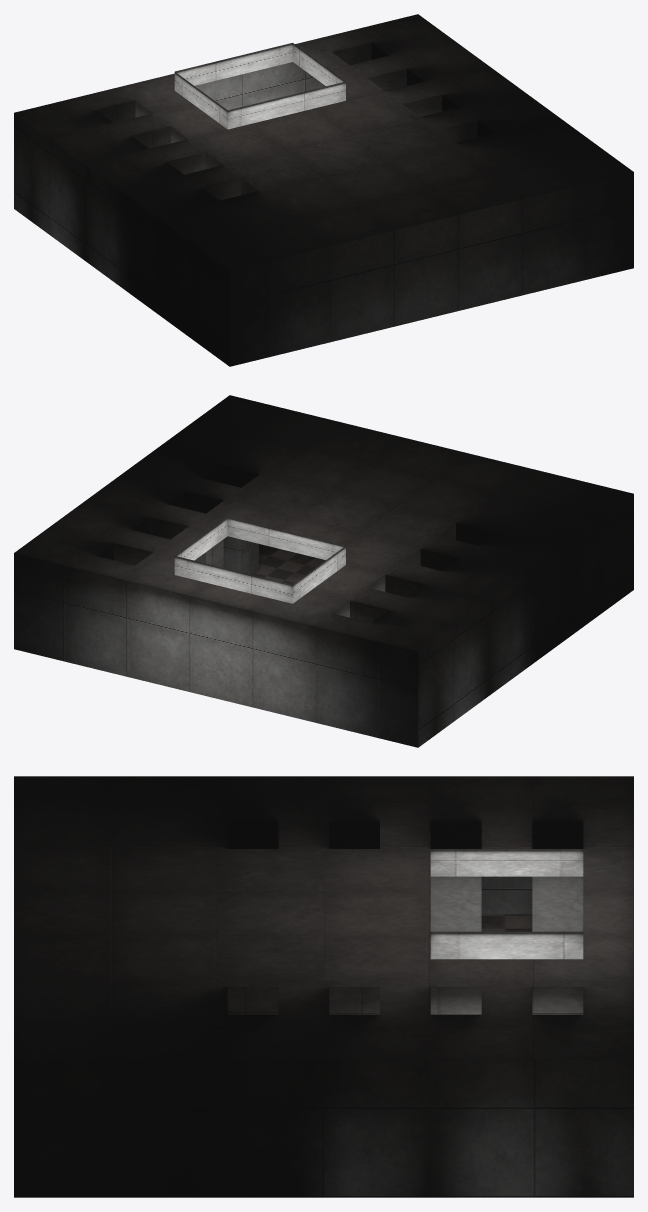
File: vr_room_light_baked.glb
3 renders of one model, top to bottom at view 1: azimuth 30°, elevation 25°; view 2: azimuth 150°, elevation 25°; view 3: azimuth 270°, elevation 25°, orthographic. The views are drawn at different scales.
Parts seen in each view (by area): view 1: Cube_0; view 2: Cube_0; view 3: Cube_0.
Part boxes in pixels (box(x1,y1,x2,y2)): Cube_0: box(14, 14, 633, 366); Cube_0: box(14, 395, 633, 747); Cube_0: box(14, 776, 633, 1197).
Bounding box in the file's own units: 44 × 12 × 40.69.
Materials: 2 (2 with a texture image).
